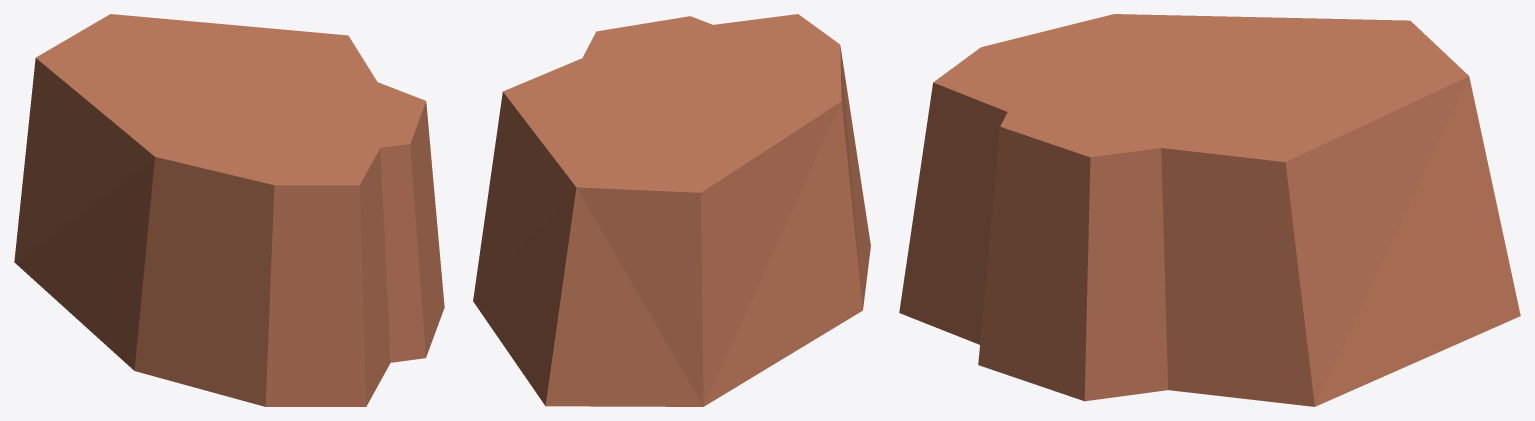
File: west_rock10.FBX
3 views of the same model, side by side, from view 1: azimuth 30°, elevation 25°; view 2: azimuth 150°, elevation 25°; view 3: azimuth 270°, elevation 25° (orthographic). The views are drawn at different scales.
Parts seen in each view (by area): view 1: west_rock10; view 2: west_rock10; view 3: west_rock10.
Boxes of the visible parts, left/top/right/bottom form: west_rock10: left=14, top=14, right=444, bottom=406; west_rock10: left=473, top=14, right=870, bottom=406; west_rock10: left=899, top=14, right=1520, bottom=406.
Size of the model in its own units: 1252 by 810 by 1941.
1 material, 1 textured.
